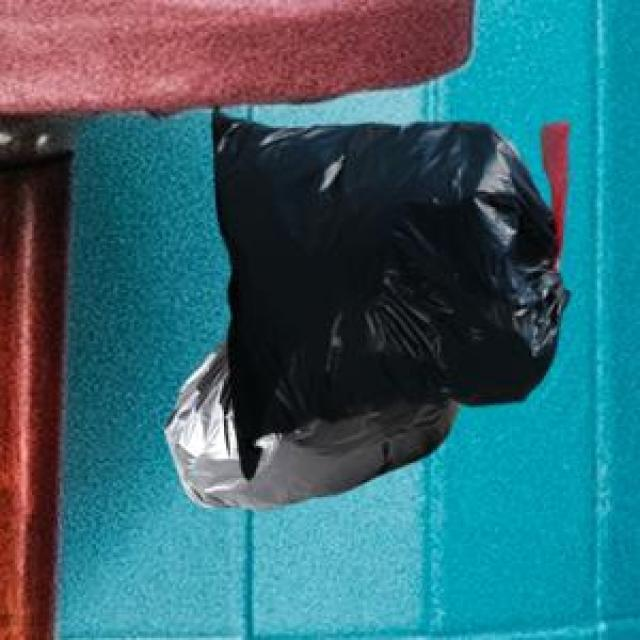miscellaneous trash: (209, 100, 565, 476), (160, 335, 457, 506)
